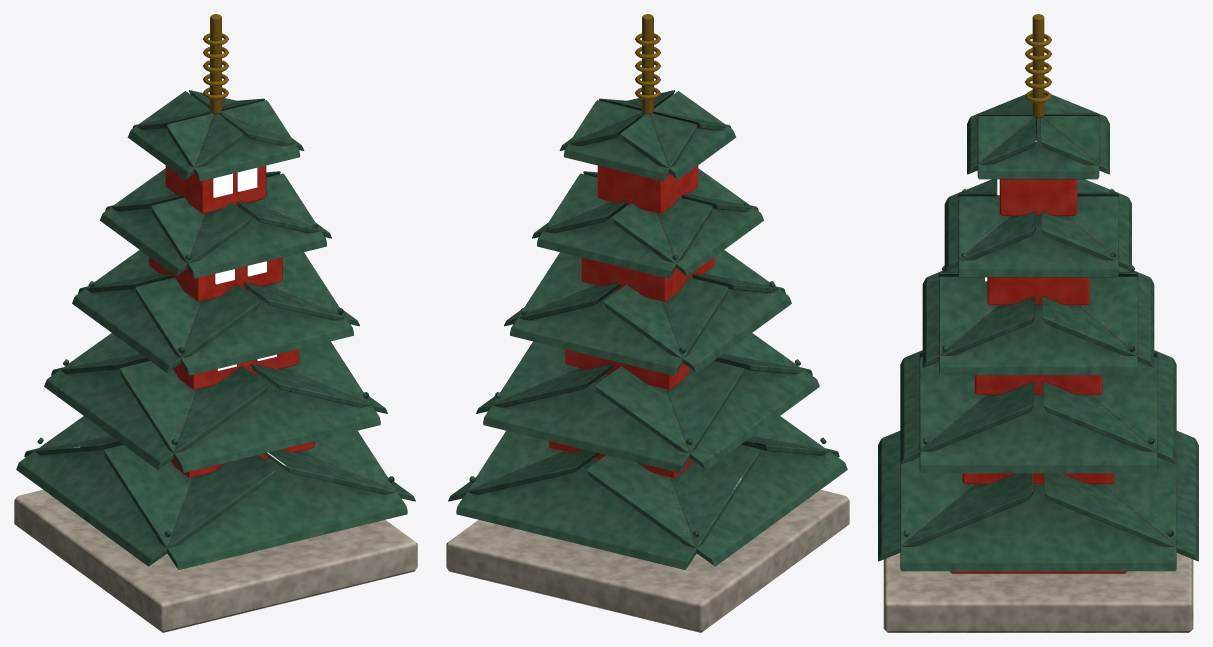
The model's file is pagoda.glb.
3 renders of one model, left to right at view 1: azimuth 30°, elevation 25°; view 2: azimuth 150°, elevation 25°; view 3: azimuth 270°, elevation 25°, orthographic. The views are drawn at different scales.
Visible parts, largest first — view 1: pagoda; view 2: pagoda; view 3: pagoda.
Boxes of the visible parts, x1=… form: pagoda: x1=14, y1=14, x2=417, y2=632; pagoda: x1=446, y1=14, x2=849, y2=632; pagoda: x1=878, y1=14, x2=1198, y2=632.
Bounding box in the file's own units: 1.45 × 2.76 × 1.45.
Materials: 1 (1 with a texture image).
